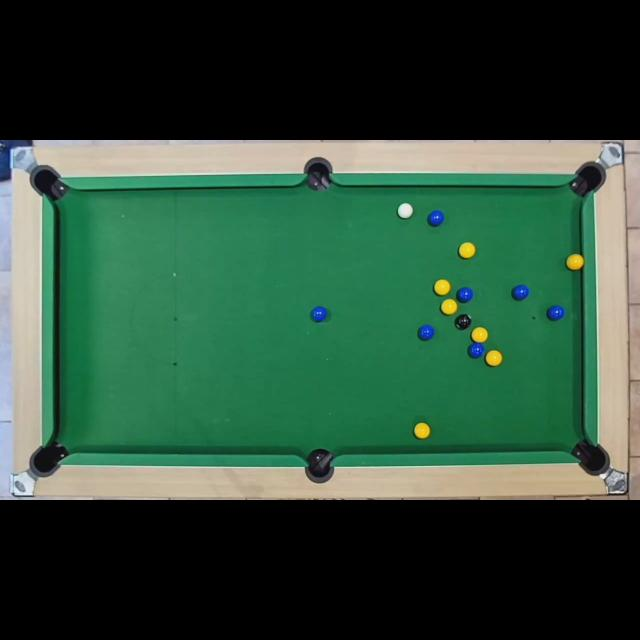Ball: (459, 242, 475, 260), (440, 299, 458, 315), (484, 351, 502, 367), (567, 253, 583, 270), (414, 423, 431, 439), (398, 203, 414, 219), (428, 210, 444, 226), (512, 285, 528, 301), (418, 324, 434, 340), (468, 343, 484, 359), (456, 315, 472, 329), (312, 306, 326, 322), (548, 306, 564, 320), (471, 328, 487, 342), (458, 288, 472, 302), (436, 280, 450, 294)
